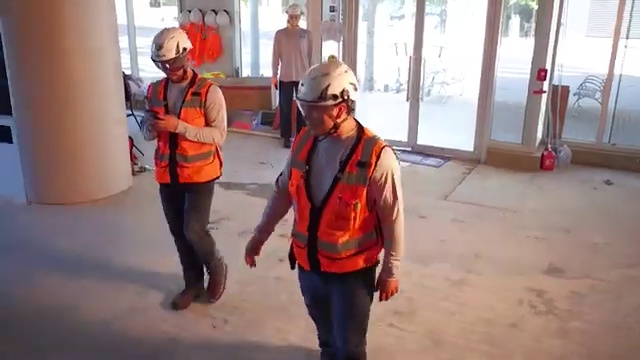helmet: (289, 59, 361, 108), (149, 25, 199, 63)
jacket: (291, 126, 384, 273), (149, 78, 222, 185)
